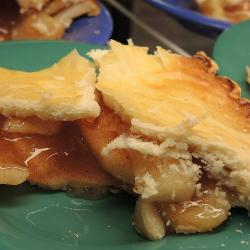apple_pie: (4, 44, 249, 222)
